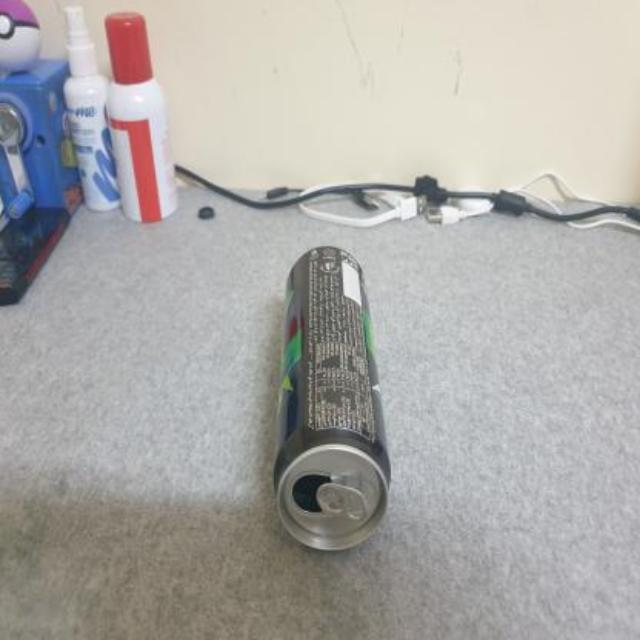metal: (272, 245, 388, 548)
